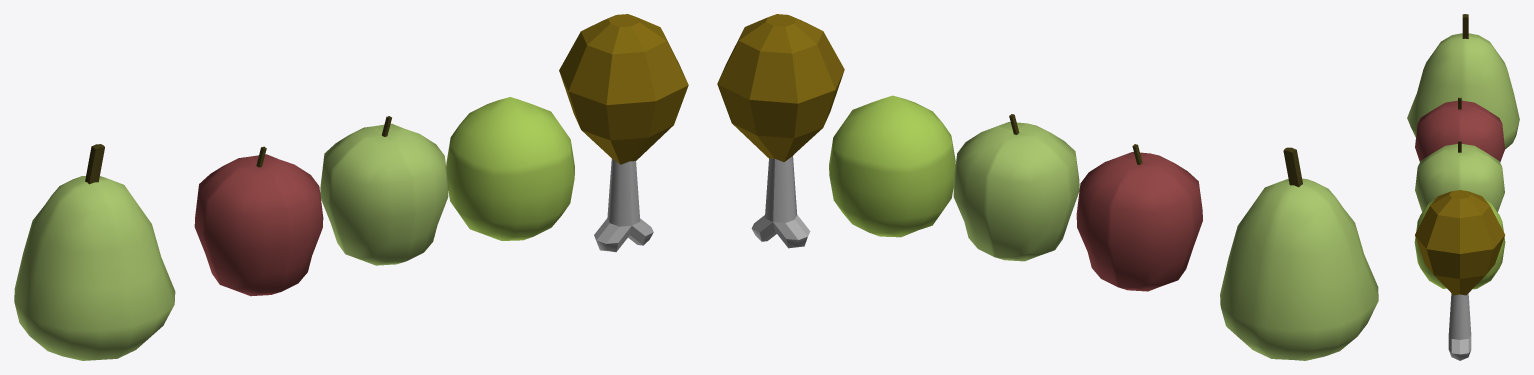
File: Foods.fbx
The picture shows the model from 3 angles, left to right: view 1: azimuth 30°, elevation 25°; view 2: azimuth 150°, elevation 25°; view 3: azimuth 270°, elevation 25°; orthographic projection. The views are drawn at different scales.
Parts seen in each view (by area): view 1: Pear, Poultry, Coconut, AppleGreen, AppleRed; view 2: Pear, Poultry, Coconut, AppleGreen, AppleRed; view 3: Poultry, Pear, AppleGreen, AppleRed, Coconut.
Boxes of the visible parts, x1,y1,x2,y2 form: Pear: (14,144,175,360); Poultry: (559,14,688,252); Coconut: (446,97,574,240); AppleGreen: (320,116,448,265); AppleRed: (194,146,323,296); Pear: (1220,147,1378,360); Poultry: (717,14,844,248); Coconut: (829,95,955,237); AppleGreen: (953,114,1079,261); AppleRed: (1076,144,1202,291); Poultry: (1415,190,1504,360); Pear: (1407,14,1519,149); AppleGreen: (1415,141,1504,212); AppleRed: (1415,97,1504,162); Coconut: (1414,199,1505,289).
Size of the model in its own units: 5.35 by 1.79 by 1.14.
